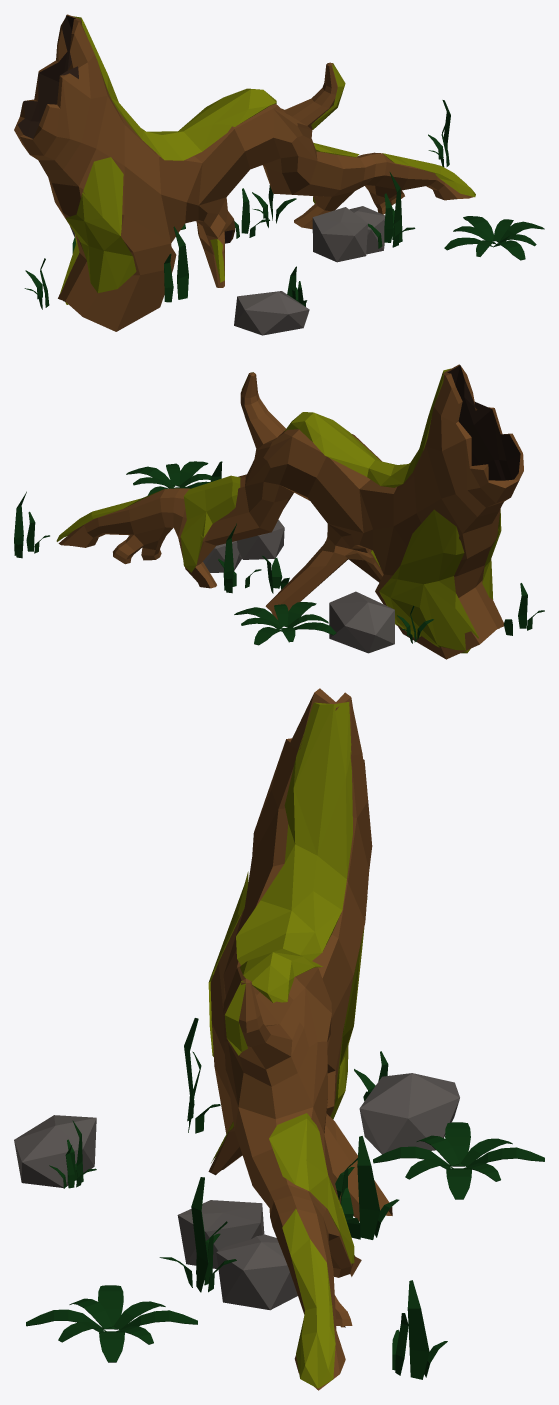
File: Racine_LVL1.fbx
3 views of the same model, one above another, from view 1: azimuth 30°, elevation 25°; view 2: azimuth 150°, elevation 25°; view 3: azimuth 270°, elevation 25° (orthographic). The views are drawn at different scales.
Parts seen in each view (by area): view 1: Plane.133; view 2: Plane.133; view 3: Plane.133.
Part boxes in pixels (bbox=[...]): Plane.133: bbox=[14, 14, 544, 335]; Plane.133: bbox=[14, 364, 544, 659]; Plane.133: bbox=[14, 688, 544, 1390].
Bounding box in the file's own units: 2.64 × 1.71 × 1.55.
